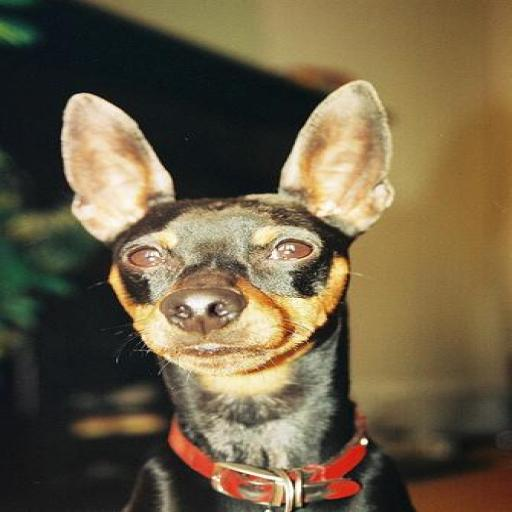dog_face: (58, 82, 419, 382)
